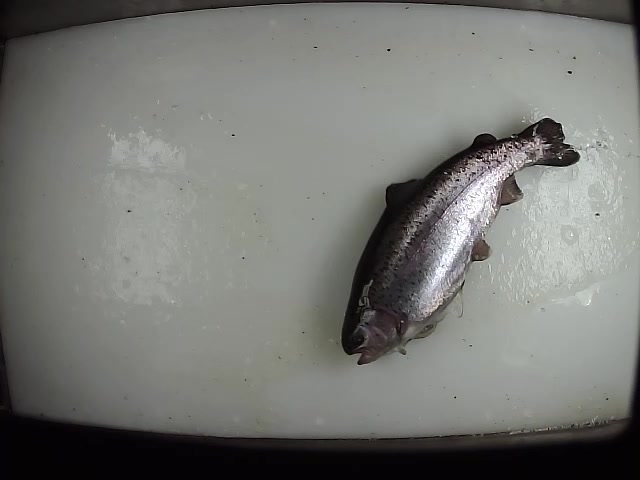fish: (339, 116, 581, 365)
